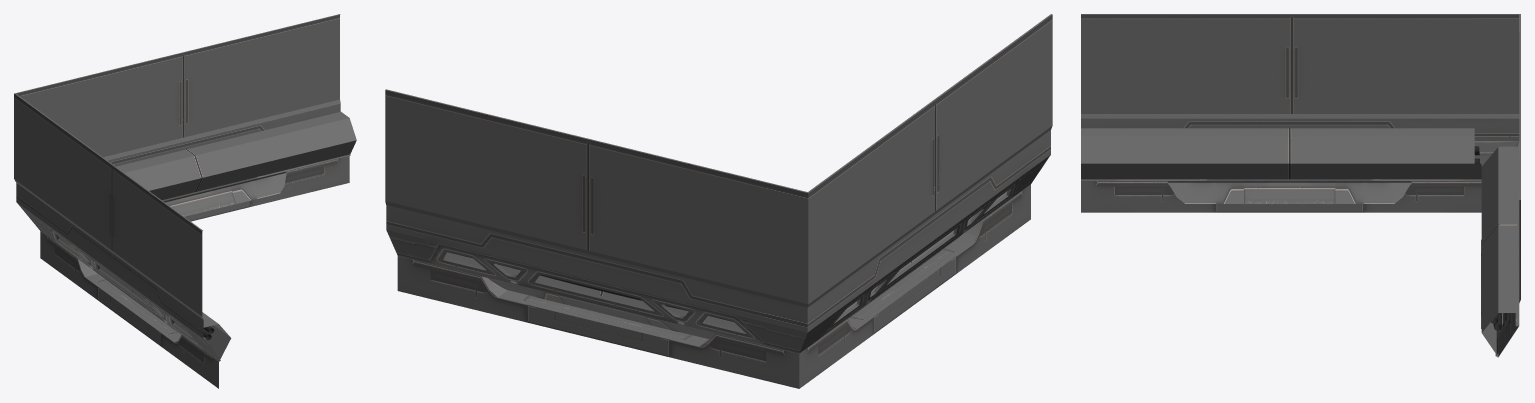
File: TopCables_Corner_Square_Outer.gltf
The picture shows the model from 3 angles, left to right: view 1: azimuth 30°, elevation 25°; view 2: azimuth 150°, elevation 25°; view 3: azimuth 270°, elevation 25°; orthographic projection. The views are drawn at different scales.
Visible parts, largest first — view 1: TopCables_Corner_Square_Outer; view 2: TopCables_Corner_Square_Outer; view 3: TopCables_Corner_Square_Outer.
Boxes of the visible parts, x1,y1,x2,y2 form: TopCables_Corner_Square_Outer: [14, 14, 356, 388]; TopCables_Corner_Square_Outer: [385, 14, 1052, 388]; TopCables_Corner_Square_Outer: [1081, 14, 1520, 357].
Size of the model in its own units: 4.22 by 2 by 4.22.
Materials: 4 (4 with a texture image).
